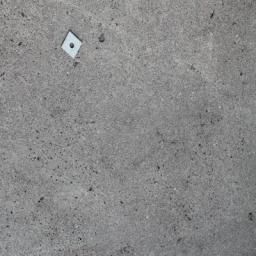FOD: (60, 29, 86, 60)
